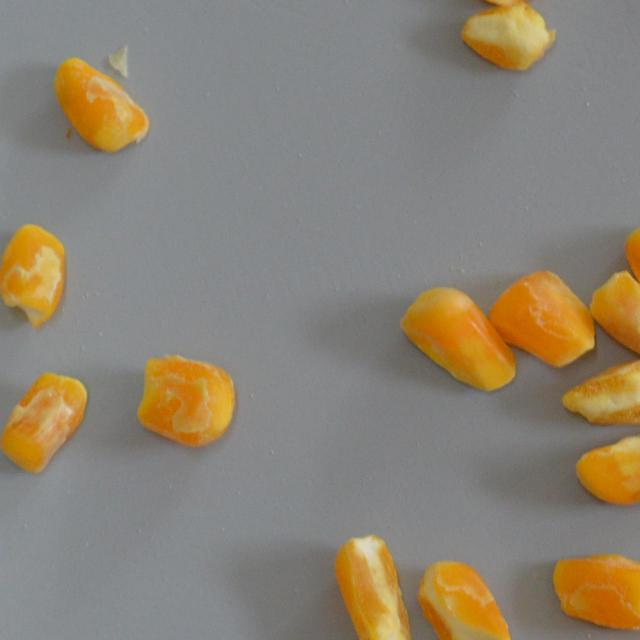pelicula: (398, 286, 516, 393), (484, 266, 596, 368), (53, 54, 150, 154), (136, 354, 237, 448), (0, 370, 91, 474), (332, 533, 414, 640), (417, 560, 512, 640), (550, 551, 640, 634), (0, 222, 70, 327), (458, 2, 556, 72), (558, 360, 640, 426), (571, 428, 640, 506), (622, 222, 640, 336)
